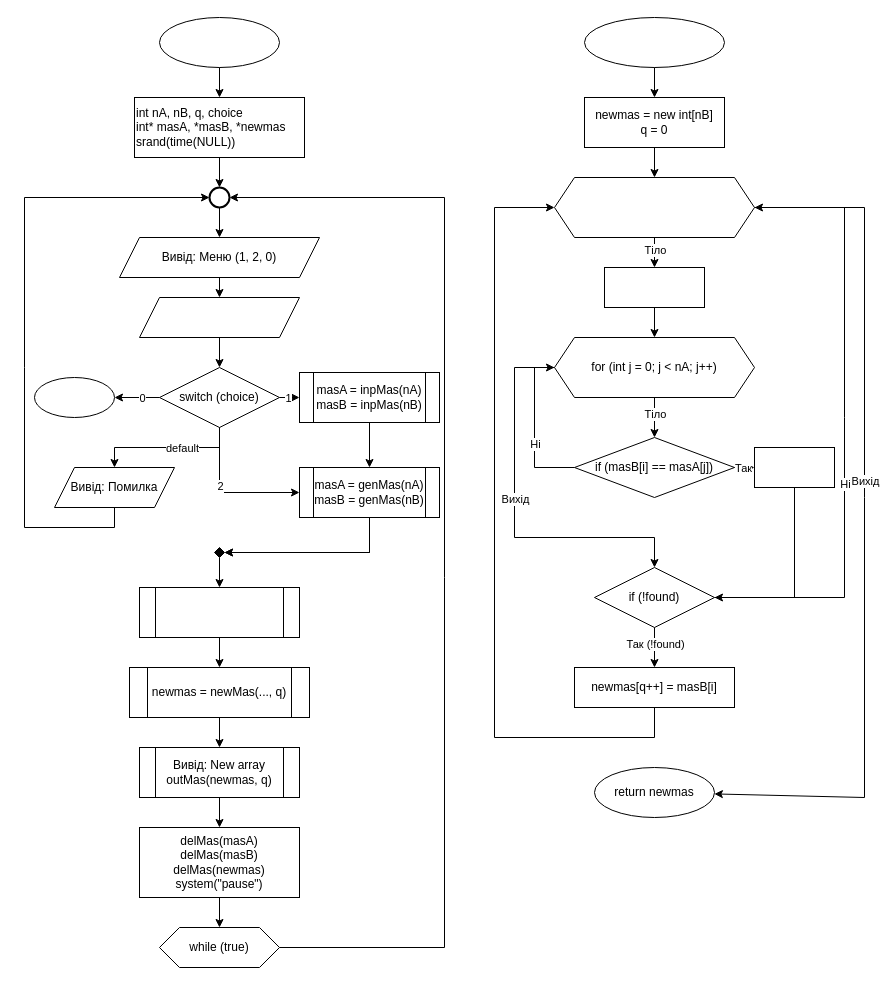
Some shapes in this 896 by 985 pixel diagram are drawn without their labels. The shapes that lost their labels are listed below. From the top down, each one's centre as x and y in pixels, then its label:
At (x=219, y=42): "Main: Початок".
At (x=654, y=42): "int* newMas(...)".
At (x=654, y=207): "for (int i = 0; i < nB; i++)".
At (x=654, y=287): "found = false".
At (x=219, y=317): "Ввід: cin >> choice".
At (x=74, y=397): "return 0".
At (x=794, y=467): "found = true break".
At (x=219, y=612): "Вивід: MasA, MasB (outMas)".
